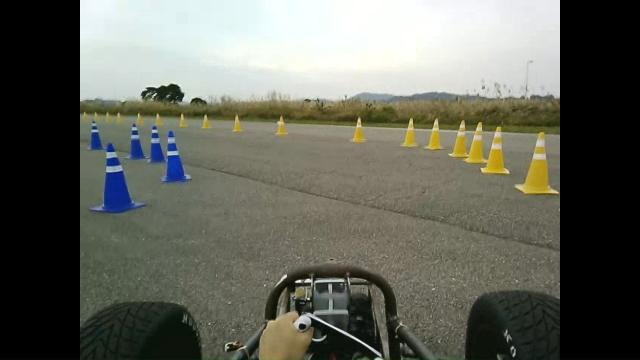blue cone: (90, 142, 146, 213), (154, 130, 194, 187), (88, 118, 109, 154)
yellow cone: (514, 131, 559, 195), (480, 126, 510, 174), (463, 121, 487, 164), (448, 120, 469, 158), (423, 117, 445, 150), (399, 117, 419, 147), (349, 116, 366, 142), (275, 115, 288, 135), (232, 114, 242, 132), (200, 114, 210, 128), (179, 113, 187, 127), (155, 112, 163, 126), (136, 112, 144, 125), (116, 112, 123, 123), (105, 112, 111, 122), (82, 110, 88, 120), (94, 111, 100, 121)
